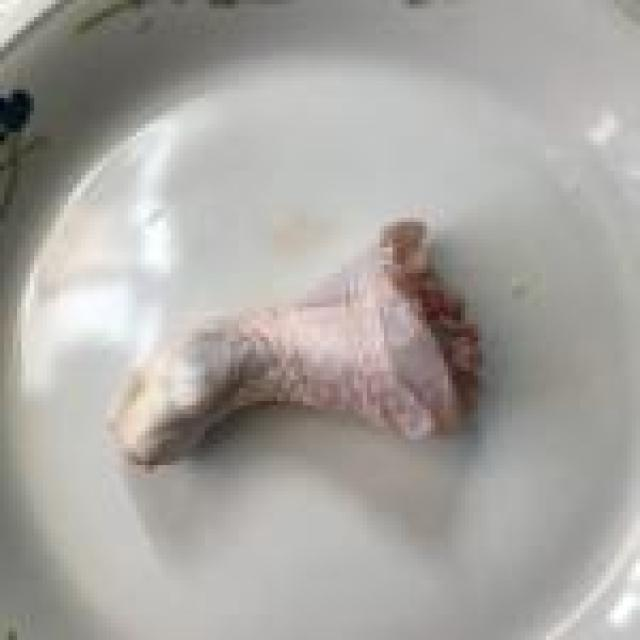leg: (94, 221, 484, 520)
